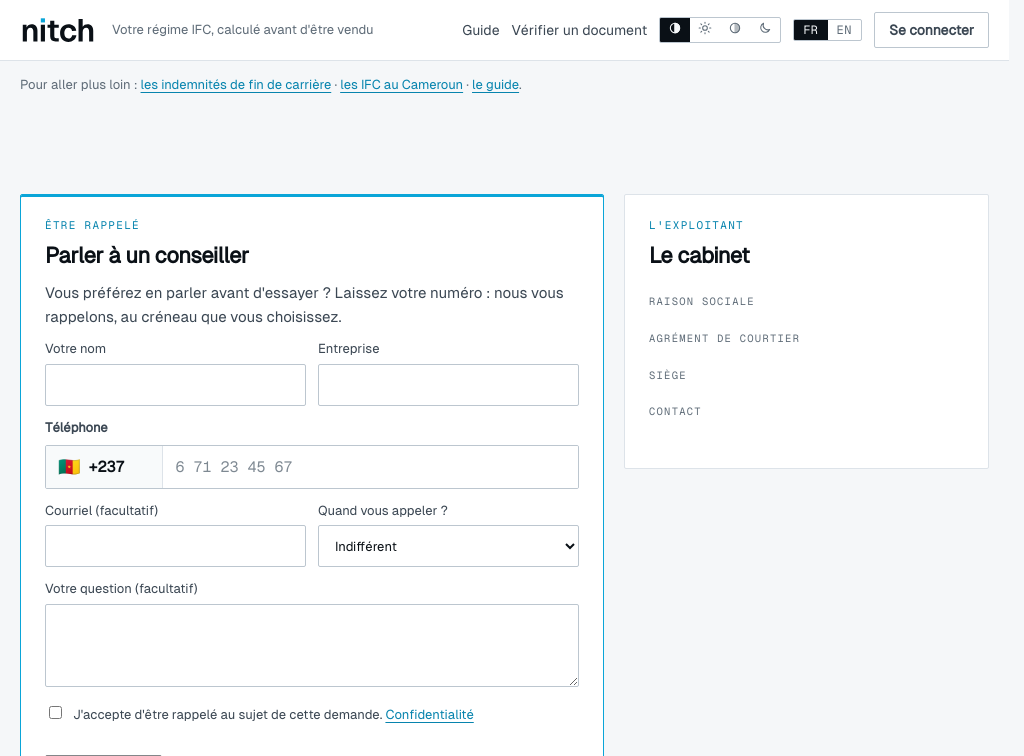
Test: être rappelé › le visiteur laisse son numéro depuis la vitrine, avec son accord
The width and height of the screenshot is (1024, 756).
(page scrolled)
Type "Paul Mbarga" into the field labelled "Votre nom" at (176, 385), box [45,364,306,406]
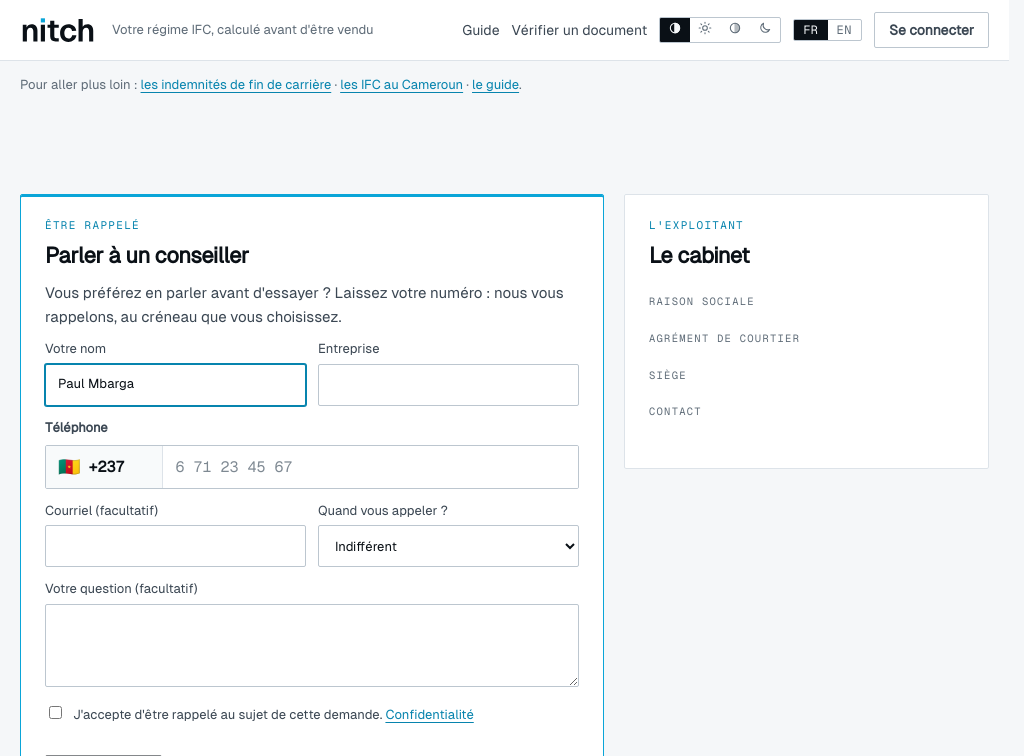
Type "Brasseries du Littoral" into the field labelled "Entreprise" at (448, 385), box [318,364,579,406]
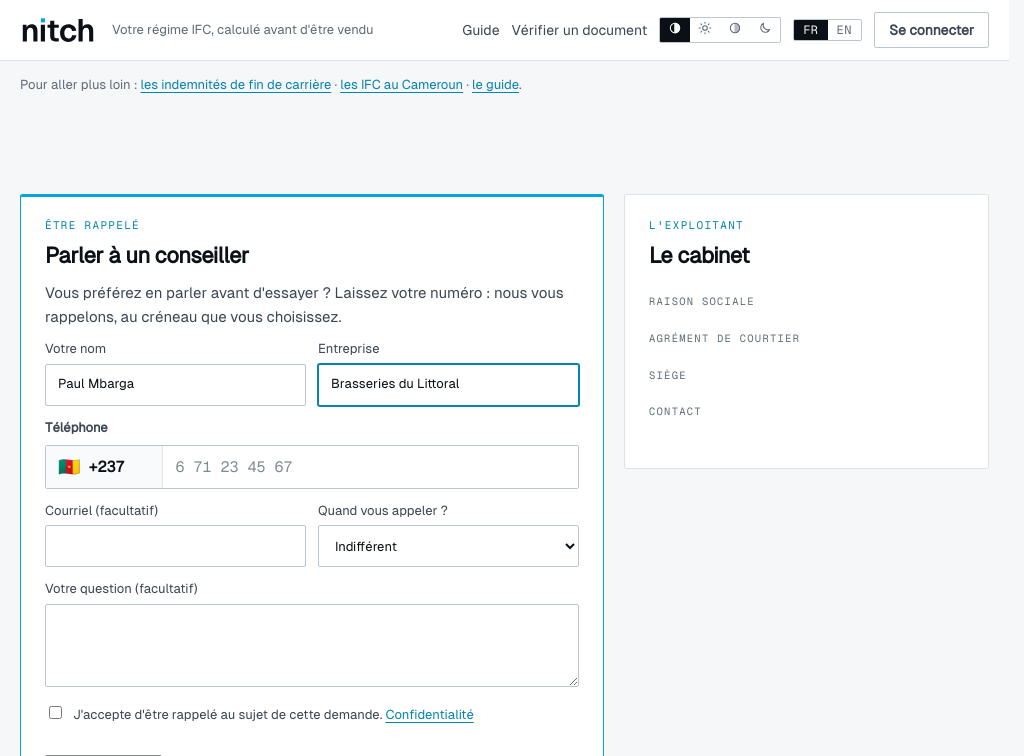
Type "699123456" into the field labelled "Téléphone" at (371, 467), box [163,446,578,488]
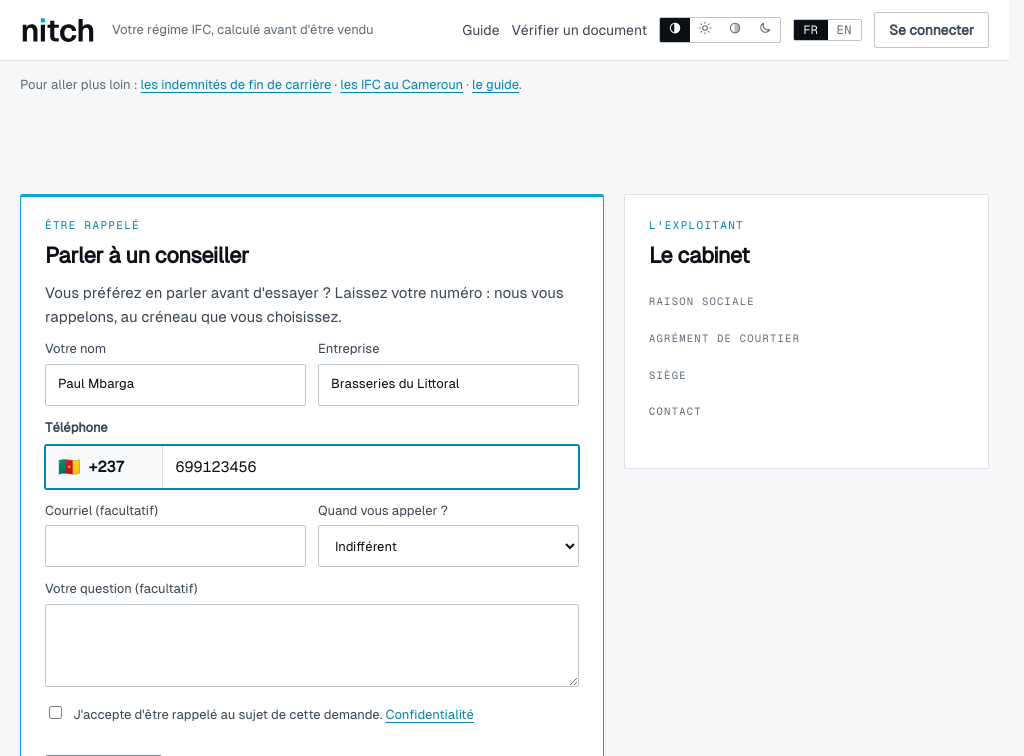
Select "Le matin" in the dropdown labelled "Quand vous appeler ?" at (448, 546), box [318,526,579,568]
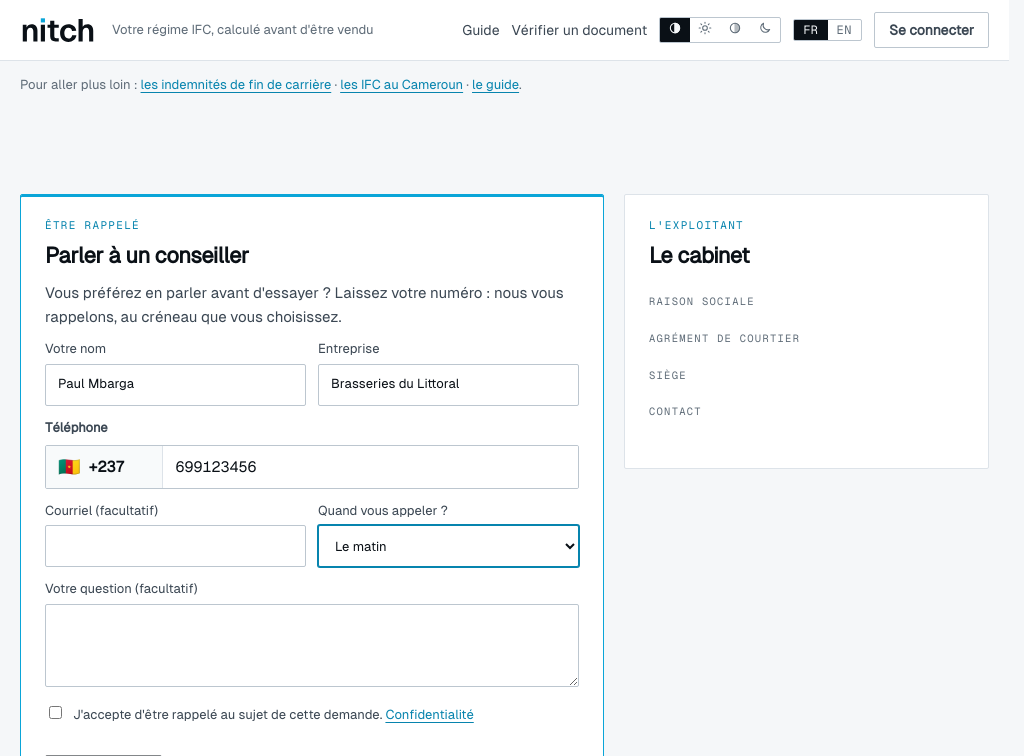
Click the checkbox labelled "J'accepte d'être rappelé" at (56, 712), box [49,706,62,719]
(page scrolled)
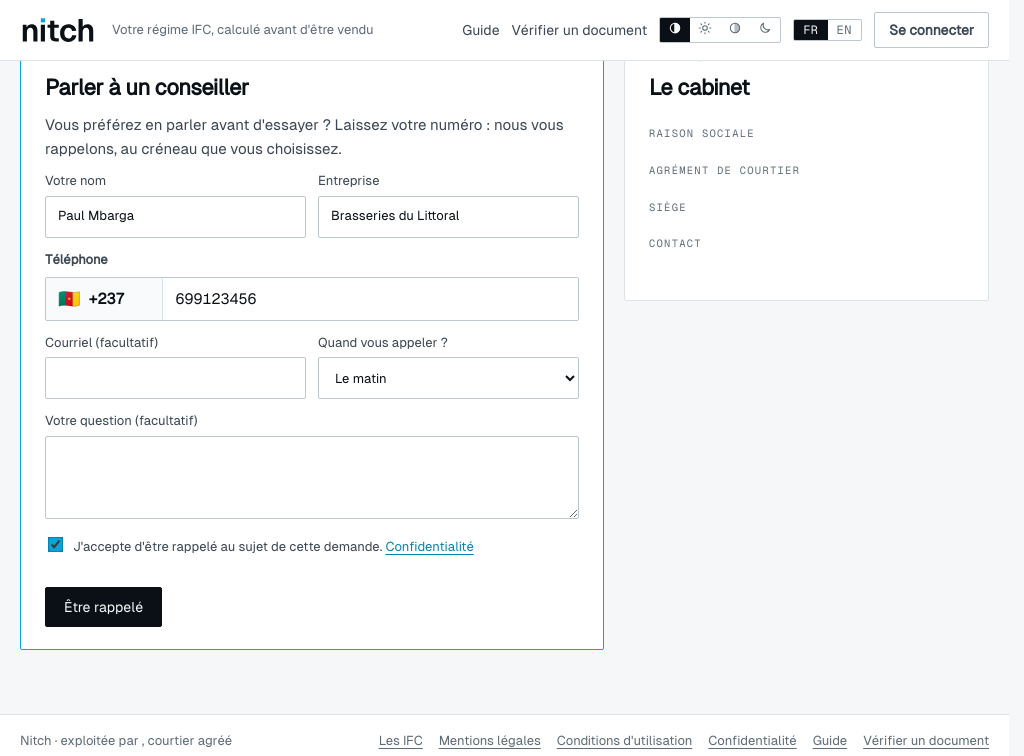
Click the button "Être rappelé" at (104, 607), box [45,587,162,627]
(page scrolled)
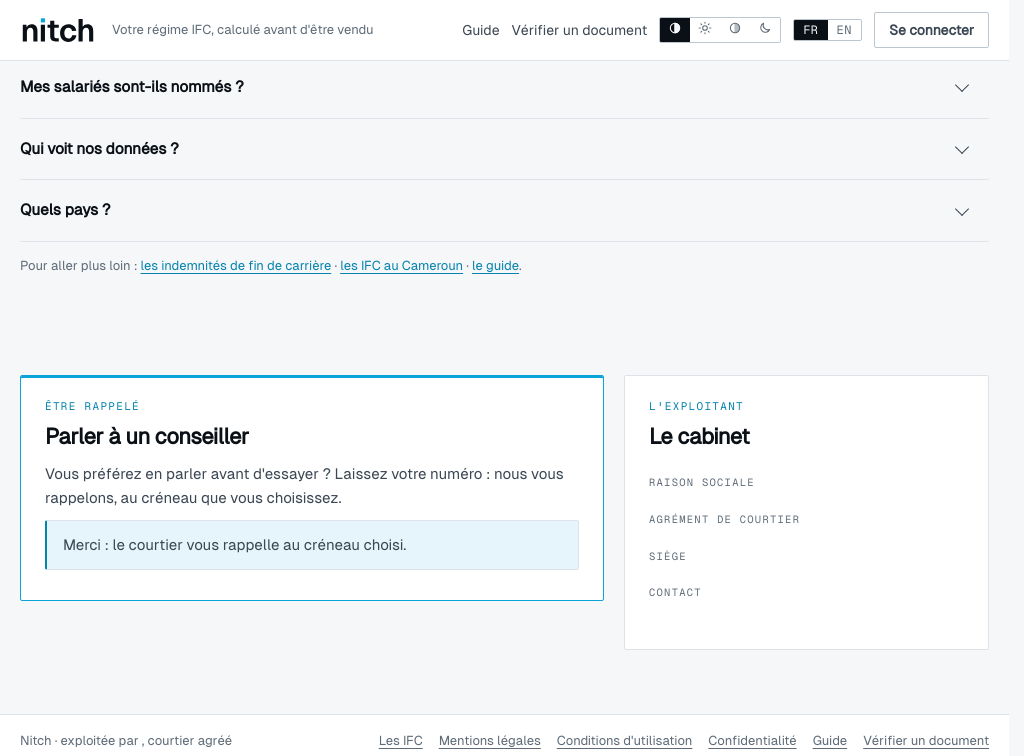
Expected: the text "Merci : le courtier vous rappelle au créneau choisi." is shown, [45,520,579,570]
